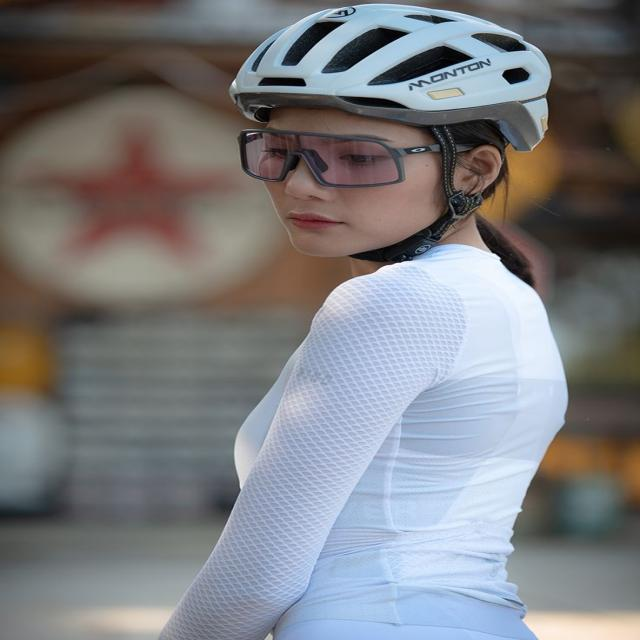illegal_helmet: (217, 0, 568, 267)
